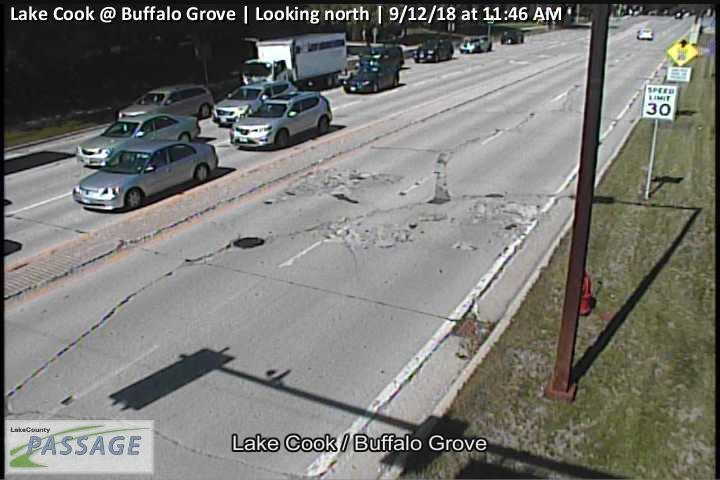SUV: (231, 91, 332, 151), (213, 80, 297, 128), (119, 84, 214, 126), (413, 38, 454, 63), (359, 47, 404, 68), (460, 35, 492, 54), (502, 30, 523, 46)
Sedan: (72, 139, 218, 212), (76, 113, 200, 165), (343, 62, 400, 93), (636, 28, 654, 40)
Truck: (242, 34, 347, 90)
